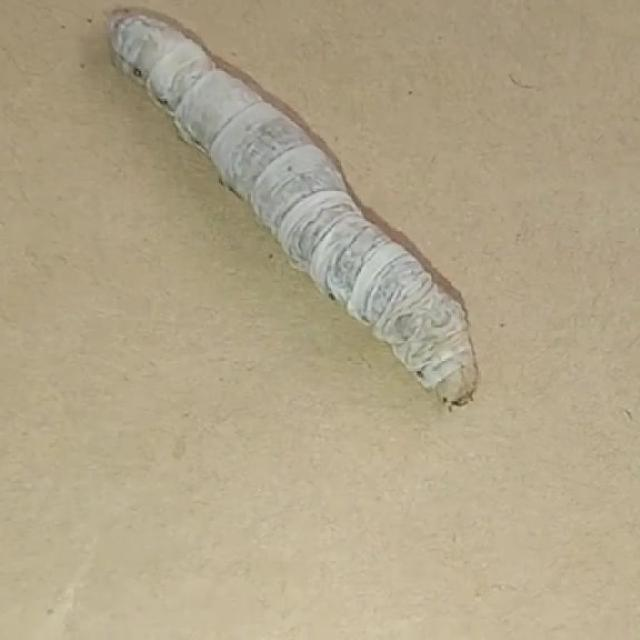Grasserie: (90, 3, 487, 416)
